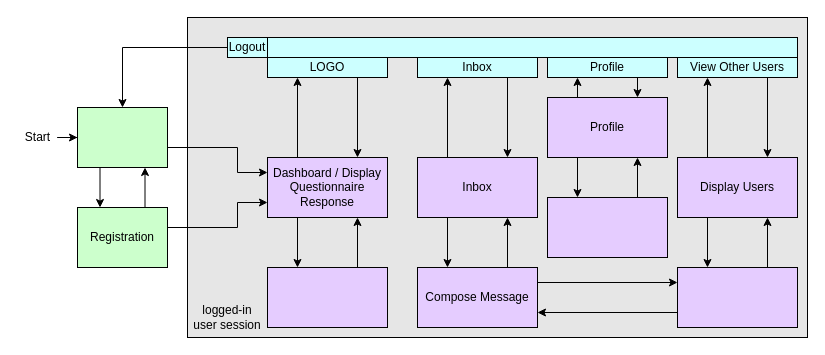
This 825x355 diagram has some shape labels left out. Here are the shapes that lost their labels. From the top down, the centre of each, then its label:
At point 532,47: "NavBar".
At point 122,137: "Login".
At point 607,227: "Edit Profile".
At point 327,297: "Questionnaire Form".
At point 737,297: "Display User Profile and Questionnaire Response".
